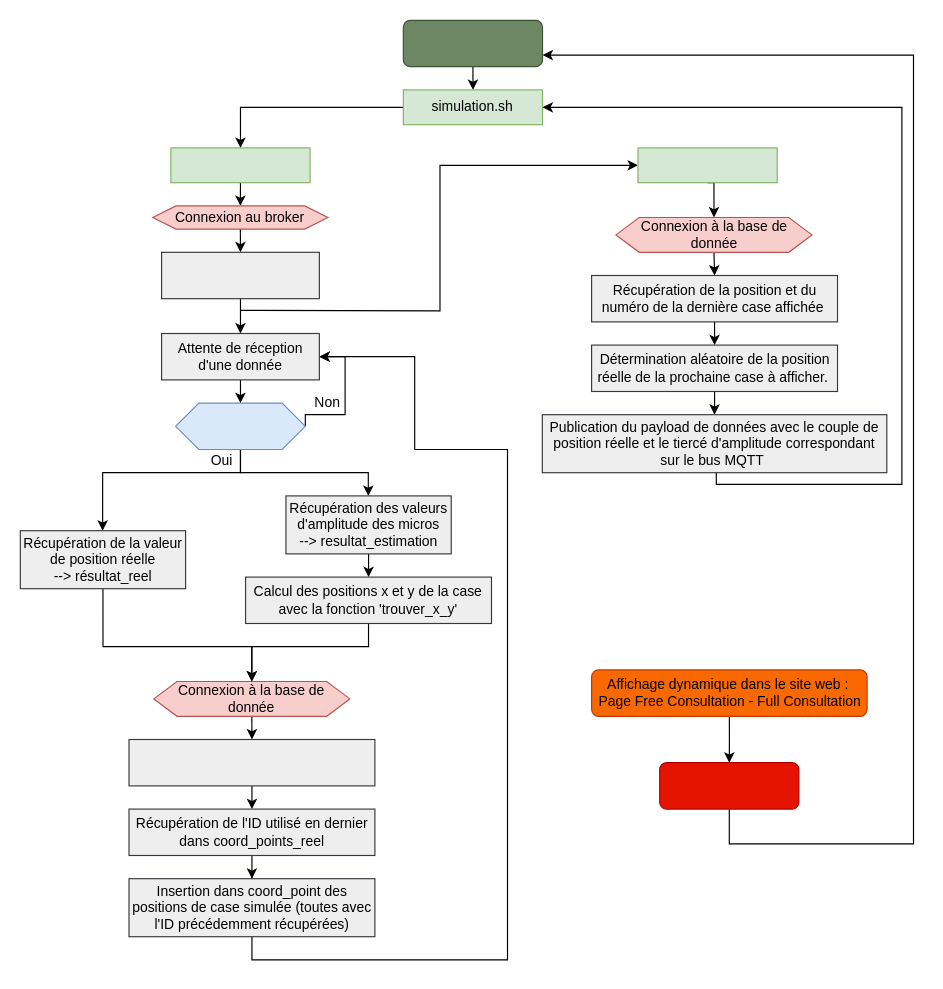
The diagram is 943 pixels wide and 989 high, and some of its shapes have lost their labels. Here are the shapes that lost their labels. From the top down, the centre of each, then its label:
At point 472,43: "Début".
At point 240,165: "sub_capteur.py".
At point 707,165: "pub_capteur.py".
At point 239,275: "Souscription au topic SAE24/capteur".
At point 239,425: "Réception du payload".
At point 251,762: "Insertion de la position de la case réelle dans la table coord_points_reel".
At point 729,785: "Fin".
